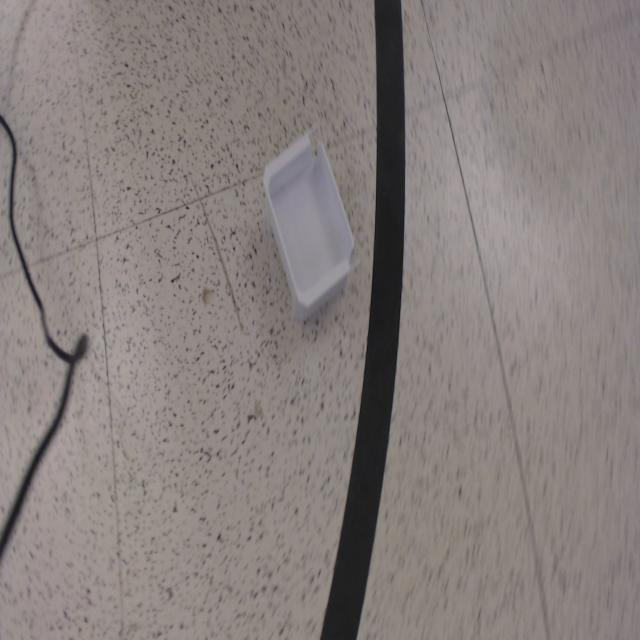wbox: (261, 128, 358, 325)
